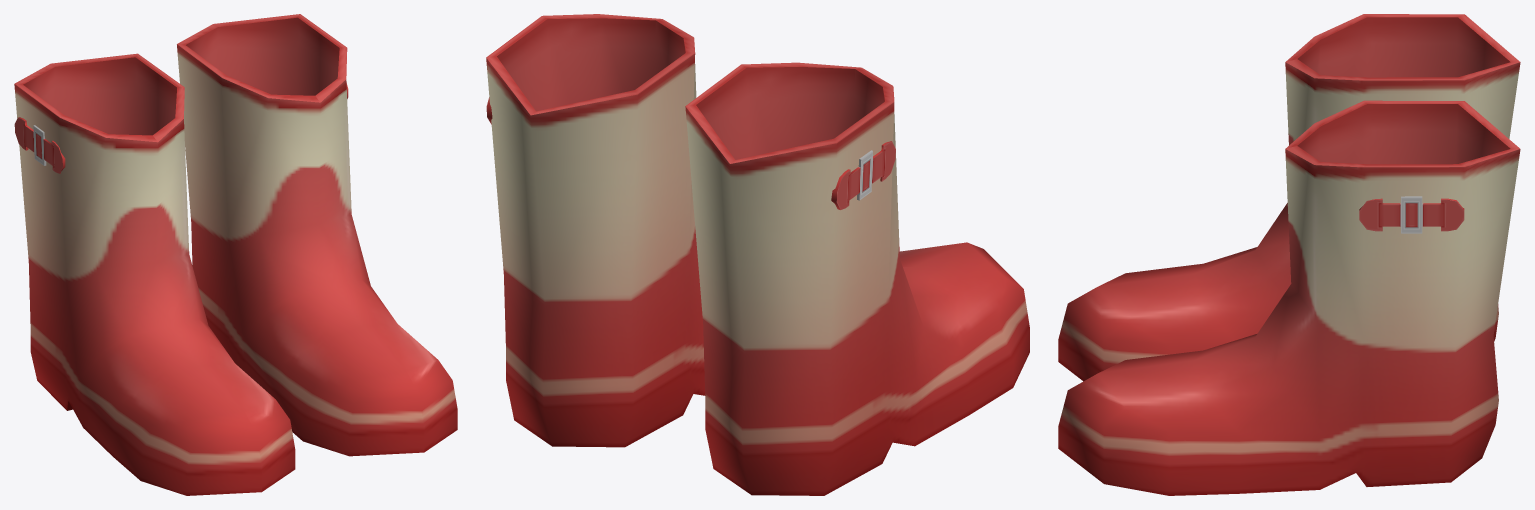
Rendered from set_rainboots_06.fbx.
3 renders of one model, left to right at view 1: azimuth 30°, elevation 25°; view 2: azimuth 150°, elevation 25°; view 3: azimuth 270°, elevation 25°, orthographic. The views are drawn at different scales.
Parts seen in each view (by area): view 1: rainboots_06_R, rainboots_06_L; view 2: rainboots_06_R, rainboots_06_L; view 3: rainboots_06_L, rainboots_06_R.
Boxes of the visible parts, bbox=[...] form: rainboots_06_R: bbox=[14, 53, 295, 495]; rainboots_06_L: bbox=[177, 14, 457, 456]; rainboots_06_R: bbox=[685, 62, 1029, 495]; rainboots_06_L: bbox=[486, 14, 705, 447]; rainboots_06_L: bbox=[1058, 100, 1520, 495]; rainboots_06_R: bbox=[1058, 14, 1520, 381].
Size of the model in its own units: 20.89 by 19.47 by 25.15.
